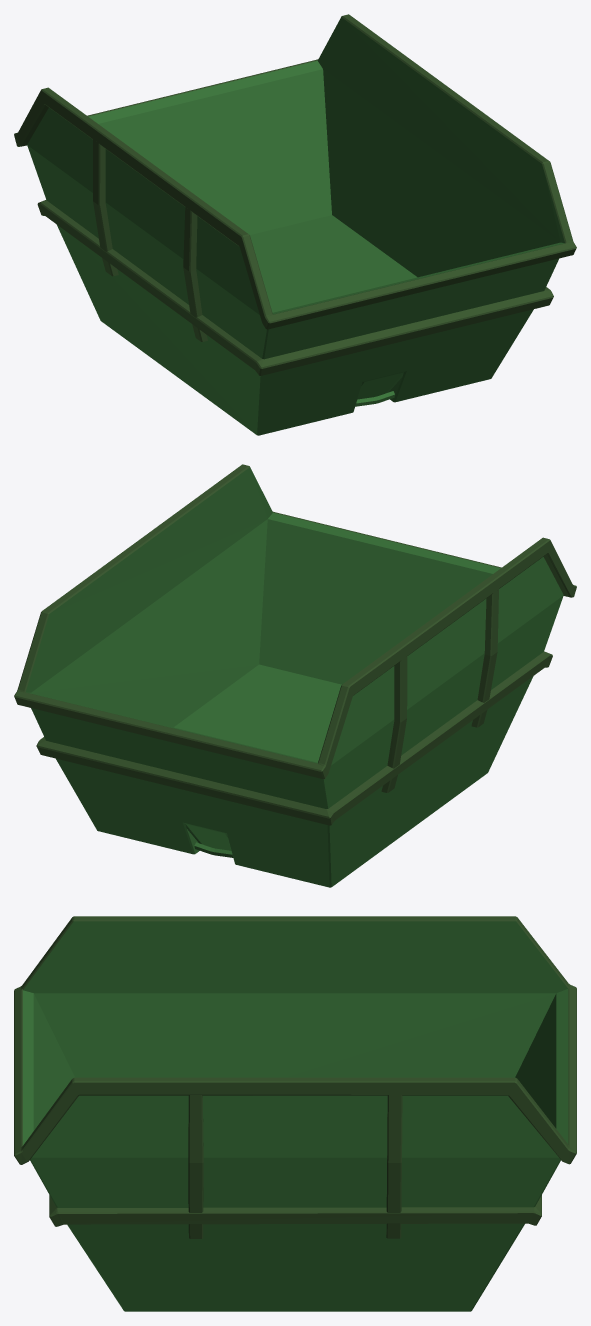
The model's file is trash_container.fbx.
3 renders of one model, top to bottom at view 1: azimuth 30°, elevation 25°; view 2: azimuth 150°, elevation 25°; view 3: azimuth 270°, elevation 25°, orthographic. The views are drawn at different scales.
Parts seen in each view (by area): view 1: trash_container; view 2: trash_container; view 3: trash_container.
Part boxes in pixels (bbox=[...]): trash_container: bbox=[14, 14, 576, 435]; trash_container: bbox=[14, 464, 576, 887]; trash_container: bbox=[14, 916, 576, 1311].
Size of the model in its own units: 243 by 170 by 348.
Materials: 1 (1 with a texture image).
